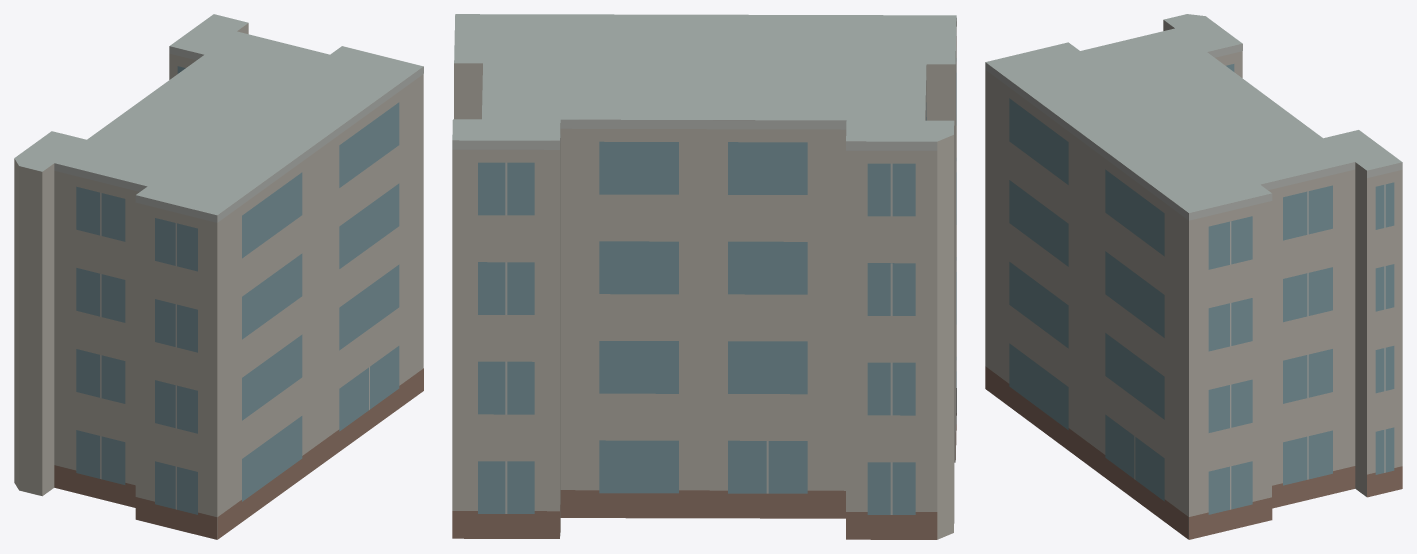
Rendered from survey-upis-32560564.glb.
3 renders of one model, left to right at view 1: azimuth 30°, elevation 25°; view 2: azimuth 150°, elevation 25°; view 3: azimuth 270°, elevation 25°, orthographic. The views are drawn at different scales.
Parts seen in each view (by area): view 1: survey-upis-32560564.tmp; view 2: survey-upis-32560564.tmp; view 3: survey-upis-32560564.tmp.
Part boxes in pixels (left/top/right/bottom): survey-upis-32560564.tmp: left=14, top=14, right=423, bottom=539; survey-upis-32560564.tmp: left=452, top=14, right=956, bottom=539; survey-upis-32560564.tmp: left=985, top=14, right=1402, bottom=539.
Size of the model in its own units: 13.87 by 10.6 by 12.28.
